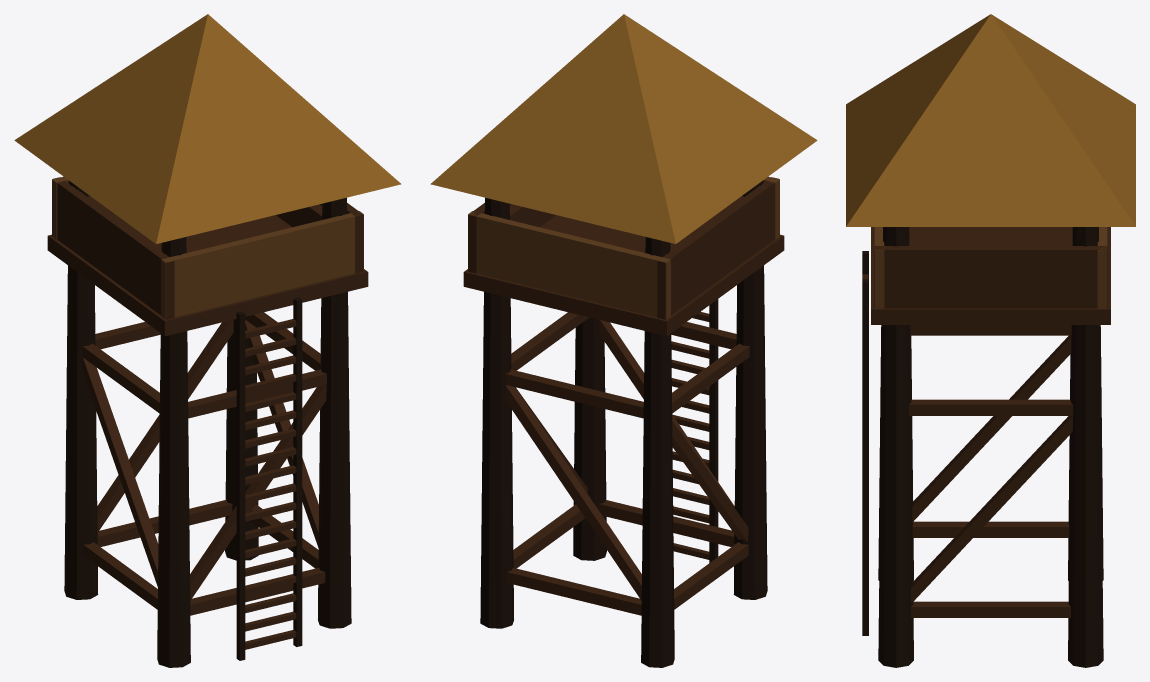
File: Watchtower.fbx
3 renders of one model, left to right at view 1: azimuth 30°, elevation 25°; view 2: azimuth 150°, elevation 25°; view 3: azimuth 270°, elevation 25°, orthographic. The views are drawn at different scales.
Visible parts, largest first — view 1: Watchtower_LOD0; view 2: Watchtower_LOD0; view 3: Watchtower_LOD0.
Boxes of the visible parts, box(x1,y1,x2,y2) form: Watchtower_LOD0: box(14, 14, 401, 667); Watchtower_LOD0: box(430, 14, 817, 667); Watchtower_LOD0: box(846, 14, 1135, 667).
Size of what is drawn, in the model's own units: 5.2 by 12 by 5.2.
